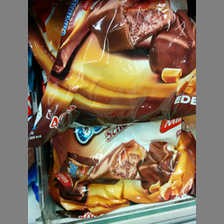chocolate: (51, 1, 196, 121), (52, 122, 196, 209)
